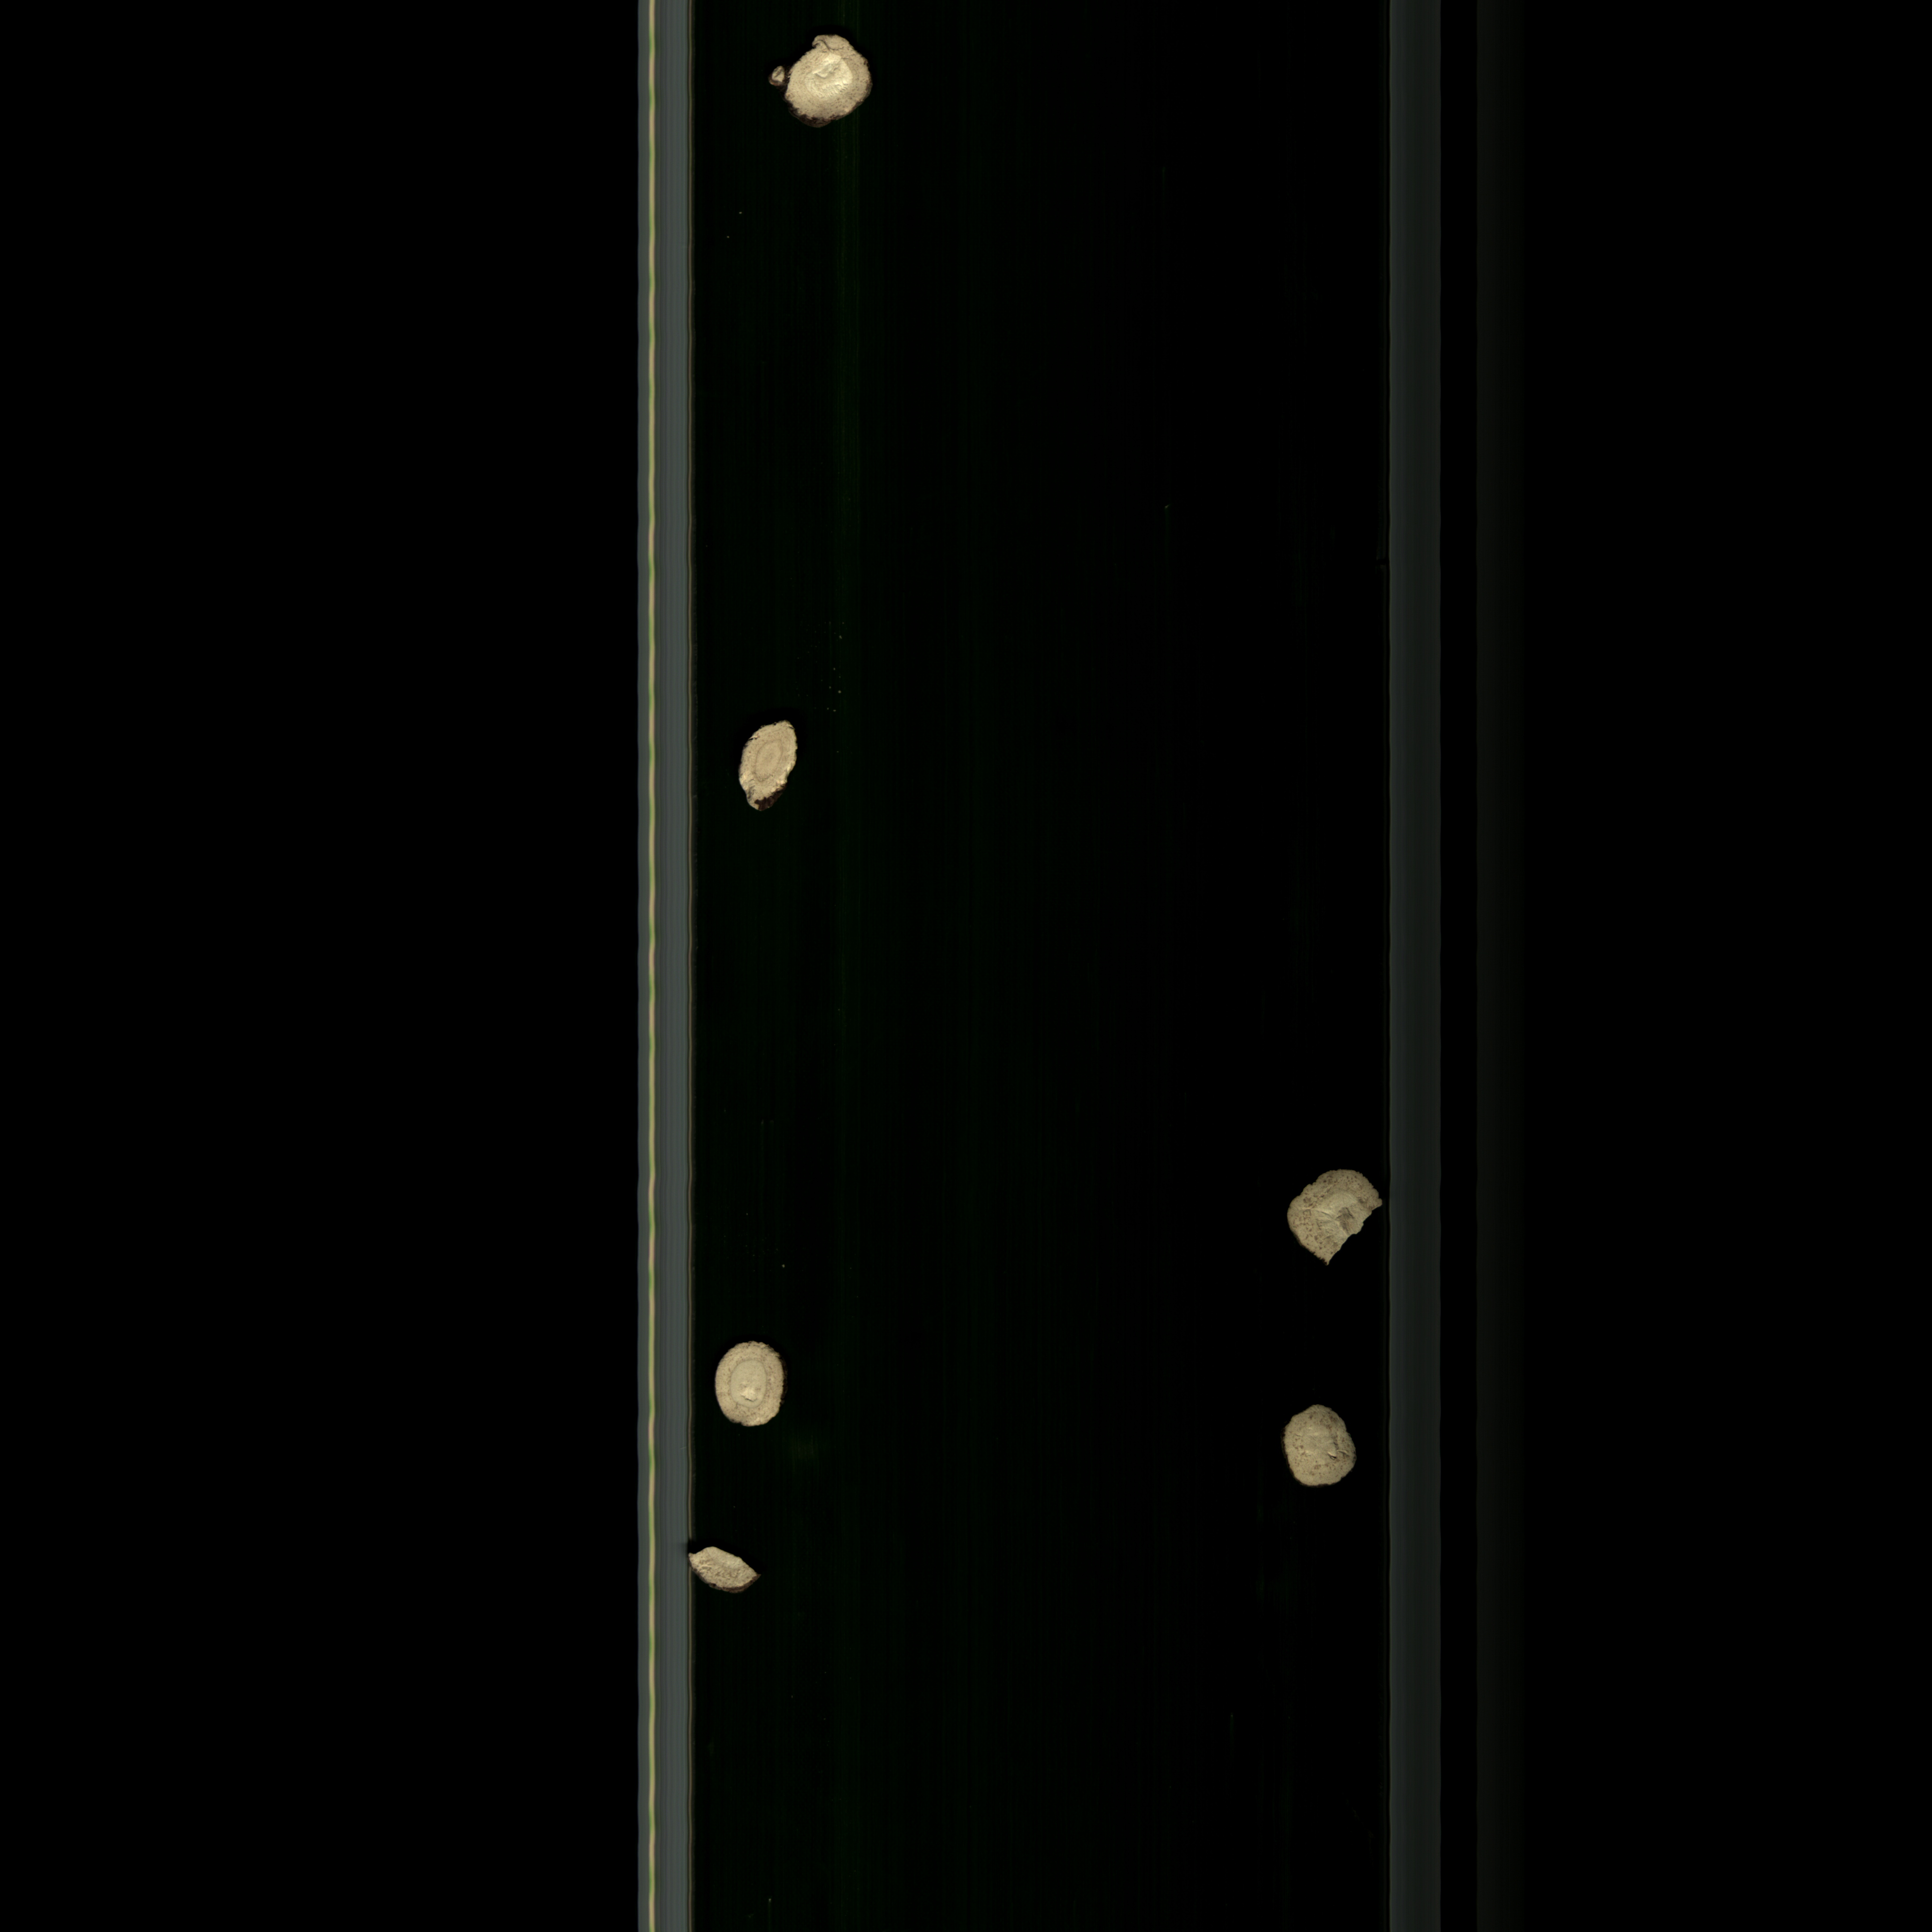debris: (1281, 1155, 1391, 1274), (690, 1536, 764, 1598)
distortion: (752, 28, 881, 136), (732, 713, 803, 823)
hole: (1272, 1403, 1368, 1495)
